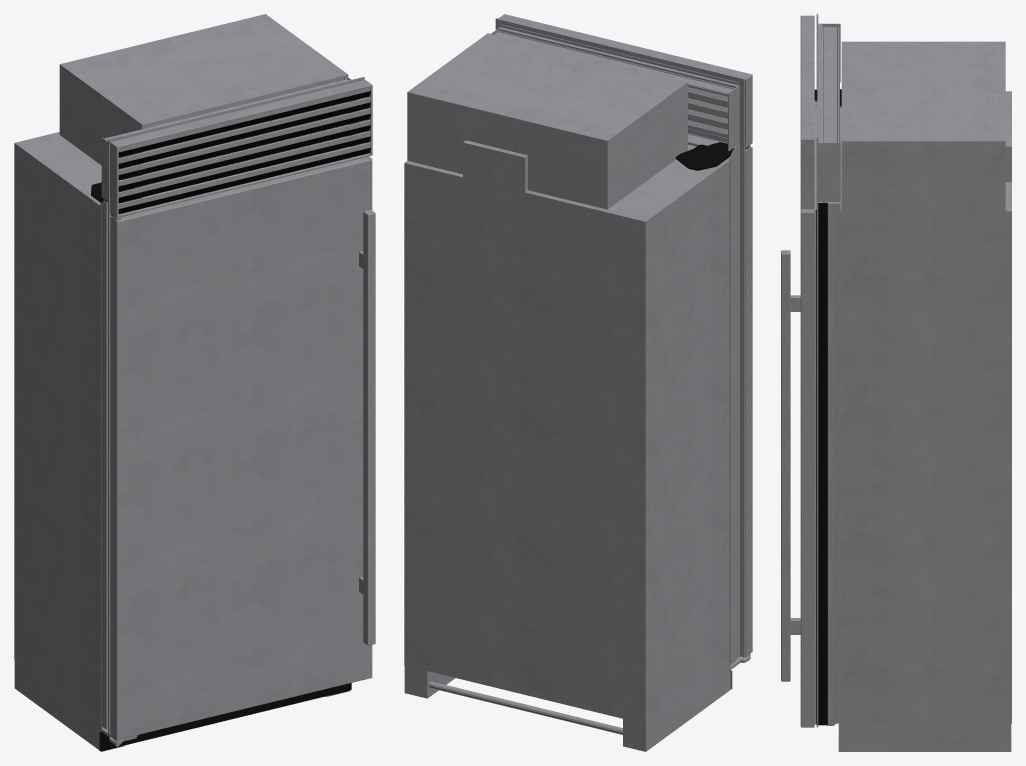
File: REFRIGERATOR_BI_36R_S_TH_RH.glb
3 views of the same model, side by side, from view 1: azimuth 30°, elevation 25°; view 2: azimuth 150°, elevation 25°; view 3: azimuth 270°, elevation 25° (orthographic). The views are drawn at different scales.
Visible parts, largest first — view 1: BI_36R_S_TH_RH; view 2: BI_36R_S_TH_RH; view 3: BI_36R_S_TH_RH.
Boxes of the visible parts, box(x1,y1,x2,y2) form: BI_36R_S_TH_RH: box(14, 14, 375, 751); BI_36R_S_TH_RH: box(404, 14, 752, 751); BI_36R_S_TH_RH: box(781, 14, 1011, 751).
Bounding box in the file's own units: 926 × 2150 × 730.
2 materials, 1 textured.
